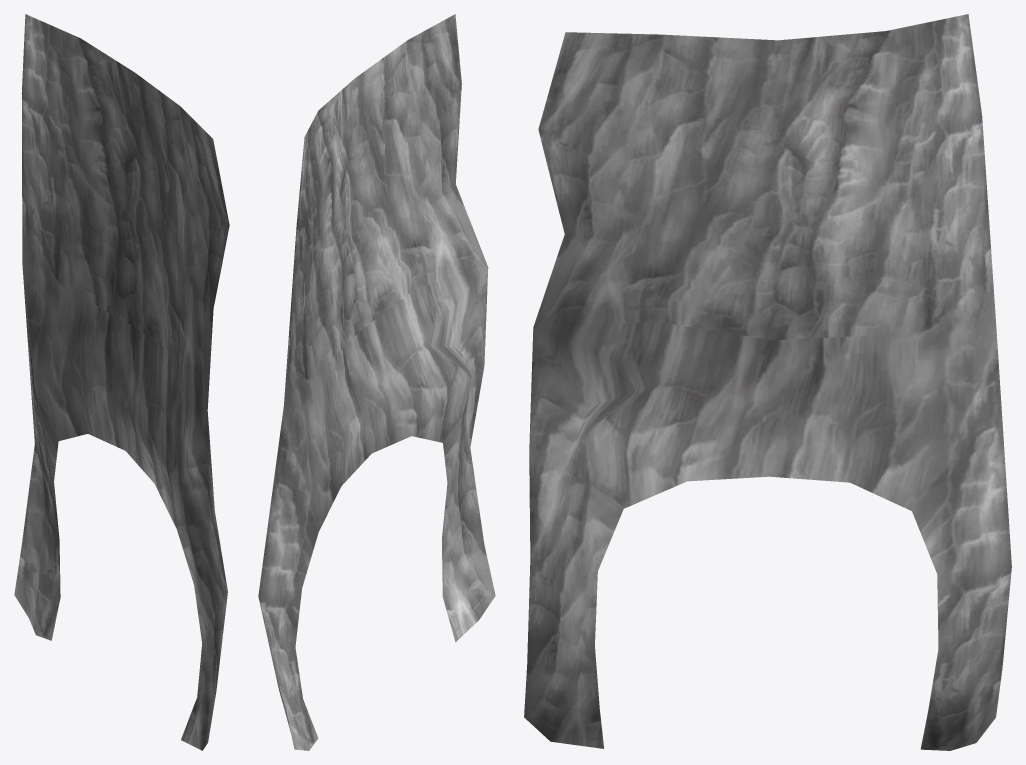
The model's file is SWORDLIGHT20_PS-AREA03_208.fbx.
The picture shows the model from 3 angles, left to right: view 1: azimuth 30°, elevation 25°; view 2: azimuth 150°, elevation 25°; view 3: azimuth 270°, elevation 25°; orthographic projection. The views are drawn at different scales.
Parts seen in each view (by area): view 1: SWORDLIGHT20_PS-AREA03_208; view 2: SWORDLIGHT20_PS-AREA03_208; view 3: SWORDLIGHT20_PS-AREA03_208.
Part boxes in pixels (bbox=[...]): SWORDLIGHT20_PS-AREA03_208: bbox=[14, 14, 229, 750]; SWORDLIGHT20_PS-AREA03_208: bbox=[258, 14, 495, 750]; SWORDLIGHT20_PS-AREA03_208: bbox=[524, 14, 1011, 750].
Size of the model in its own units: 11979 by 169574 by 101984.
Materials: 1 (1 with a texture image).
